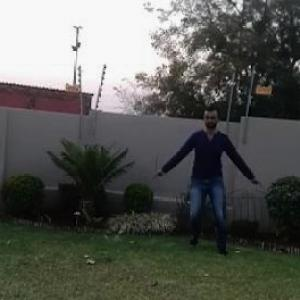land: (154, 110, 264, 256)
